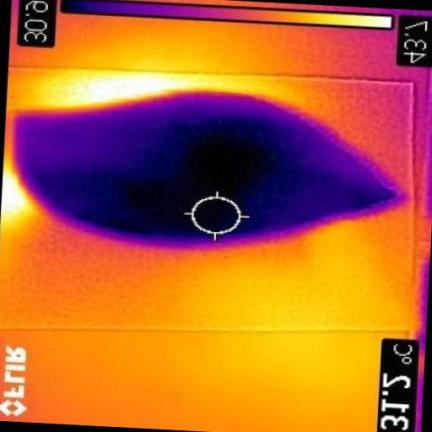mango: (15, 94, 399, 247)
